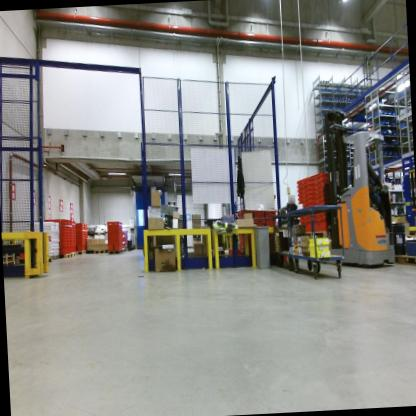forklift: (315, 99, 398, 271)
pallet: (389, 252, 416, 270), (60, 249, 75, 262), (2, 252, 16, 262), (106, 247, 123, 255), (92, 248, 108, 255), (42, 254, 54, 263), (48, 253, 59, 262), (3, 260, 18, 266), (75, 248, 87, 255), (71, 250, 78, 258), (122, 247, 126, 255), (125, 246, 128, 252)
small_load_carrier: (236, 228, 259, 252), (223, 246, 246, 263), (313, 214, 332, 234), (299, 217, 313, 235), (253, 217, 267, 231), (234, 206, 250, 216), (265, 215, 277, 227), (57, 244, 68, 254), (113, 241, 121, 250), (107, 242, 114, 251), (67, 244, 73, 253), (72, 242, 76, 252)
